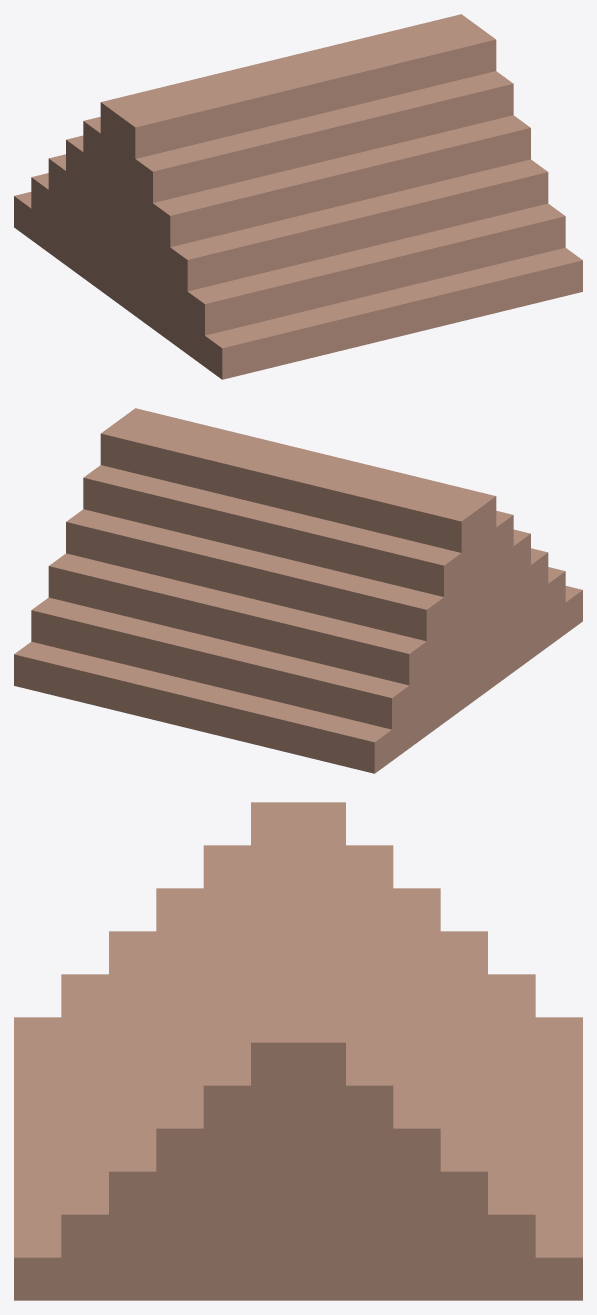
The model's file is fac_rooftop_pitched_a.glb.
The picture shows the model from 3 angles, top to bottom: view 1: azimuth 30°, elevation 25°; view 2: azimuth 150°, elevation 25°; view 3: azimuth 270°, elevation 25°; orthographic projection. The views are drawn at different scales.
Parts seen in each view (by area): view 1: fac_rooftop_pitched_a; view 2: fac_rooftop_pitched_a; view 3: fac_rooftop_pitched_a.
Part boxes in pixels (box(x1,y1,x2,y2)): fac_rooftop_pitched_a: box(14, 14, 582, 379); fac_rooftop_pitched_a: box(14, 408, 582, 773); fac_rooftop_pitched_a: box(14, 802, 582, 1300).
Size of what is drawn, in the model's own units: 3 by 1.5 by 3.
